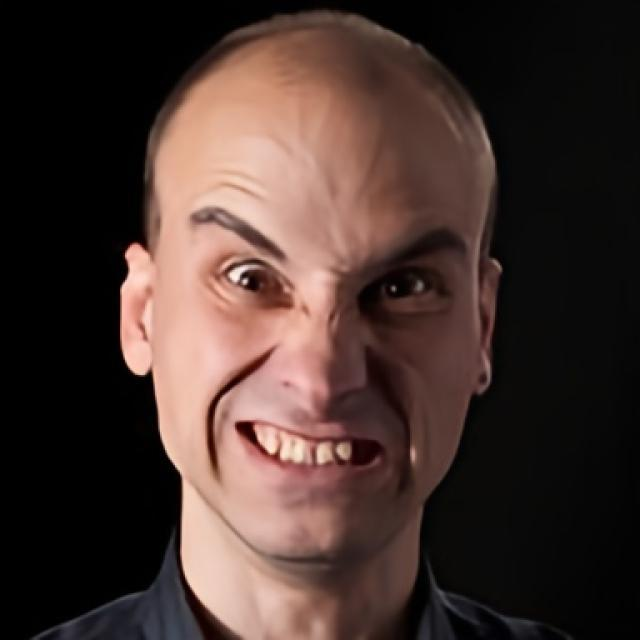anger: (155, 85, 480, 560)
